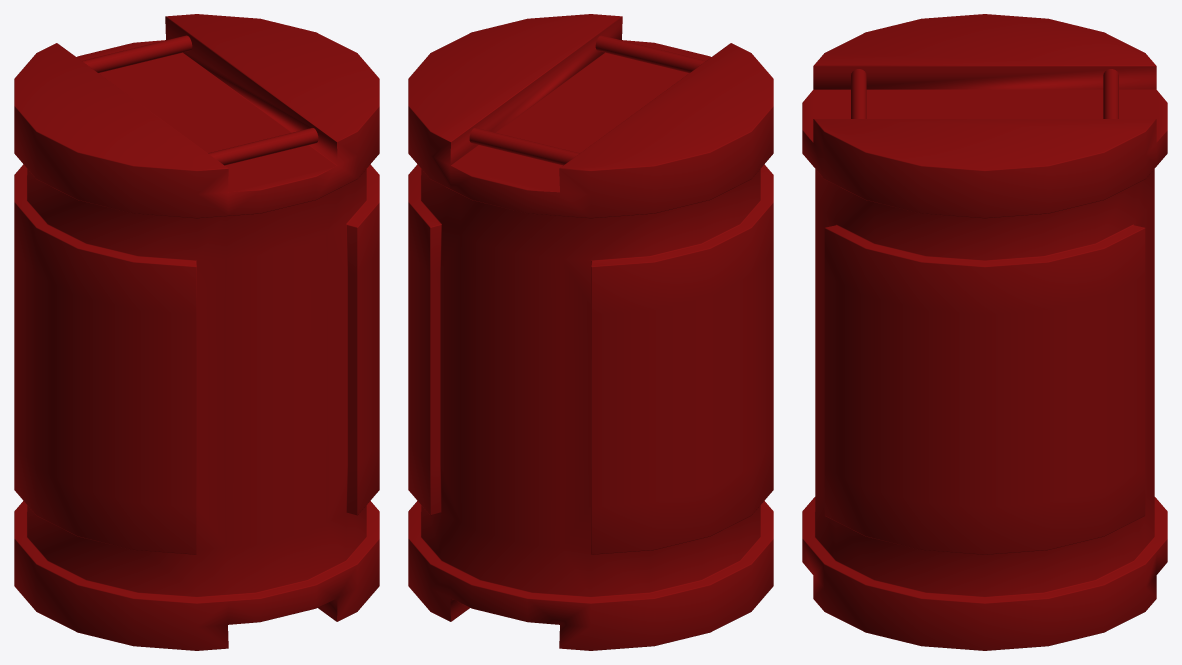
Rendered from Barrel.fbx.
3 renders of one model, left to right at view 1: azimuth 30°, elevation 25°; view 2: azimuth 150°, elevation 25°; view 3: azimuth 270°, elevation 25°, orthographic.
Parts seen in each view (by area): view 1: Cylinder002; view 2: Cylinder002; view 3: Cylinder002.
Boxes of the visible parts, bbox=[...] form: Cylinder002: bbox=[14, 14, 379, 650]; Cylinder002: bbox=[408, 14, 773, 650]; Cylinder002: bbox=[802, 14, 1167, 650].
Size of the model in its own units: 276 by 394 by 271.
